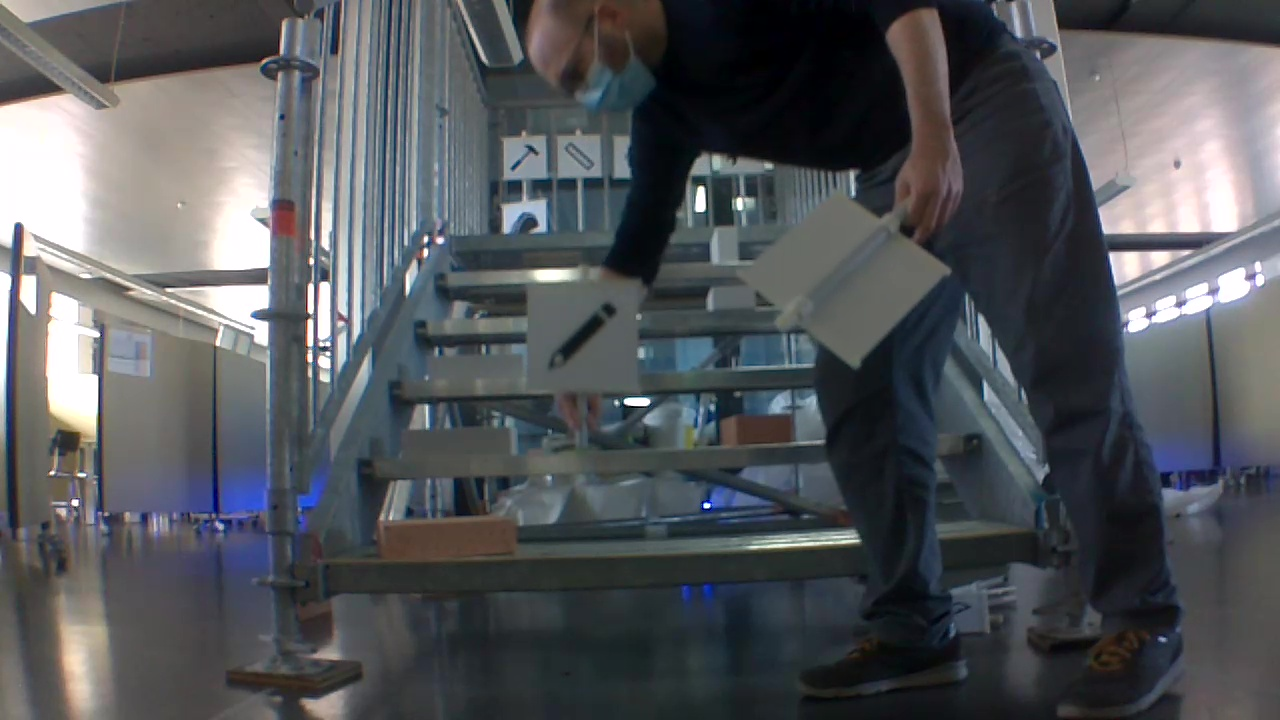brick: (372, 515, 518, 563), (400, 428, 520, 462), (721, 414, 797, 449), (708, 224, 742, 267), (703, 288, 756, 310)
edge: (316, 540, 853, 599)
hammer: (510, 142, 541, 173)
pencil: (547, 299, 620, 372)
ruler: (561, 140, 596, 175)
taco: (506, 208, 543, 232)
